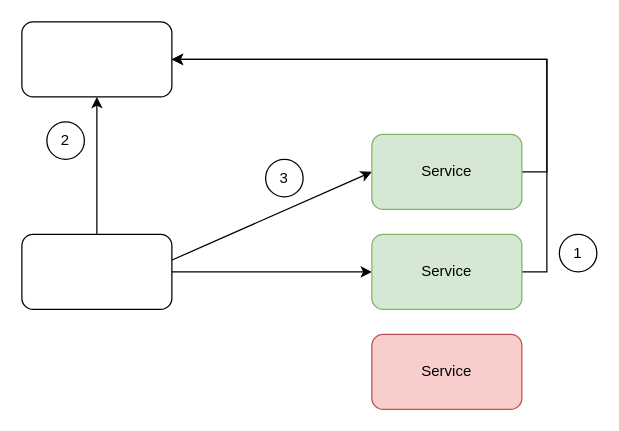
Image size: 619x431. Some labels were removed from this diagram. The box of each missing label's shape, as (x1, y1, x2, y2) in pixels:
Client: (21, 233, 172, 309)
Service Registry: (21, 21, 172, 97)
